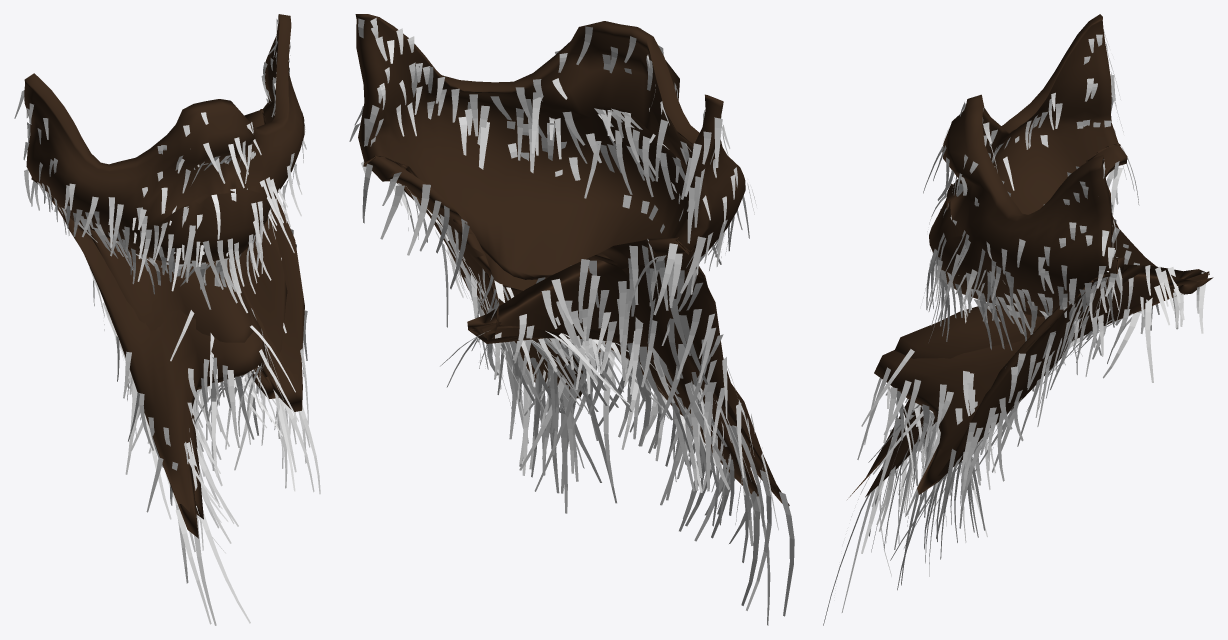
File: beard-warden-forked.glb
The picture shows the model from 3 angles, left to right: view 1: azimuth 30°, elevation 25°; view 2: azimuth 150°, elevation 25°; view 3: azimuth 270°, elevation 25°; orthographic projection. The views are drawn at different scales.
Parts seen in each view (by area): view 1: beard-warden-forked_1, beard__strands; view 2: beard-warden-forked_1, beard__strands; view 3: beard-warden-forked_1, beard__strands.
Part boxes in pixels (left/top/right/bottom): beard-warden-forked_1: left=24, top=14, right=304, bottom=538; beard__strands: left=14, top=19, right=320, bottom=625; beard-warden-forked_1: left=355, top=14, right=789, bottom=505; beard__strands: left=349, top=18, right=794, bottom=625; beard-warden-forked_1: left=847, top=14, right=1213, bottom=499; beard__strands: left=823, top=29, right=1208, bottom=625.
Size of the model in its own units: 0.1667 by 0.2867 by 0.1818.
